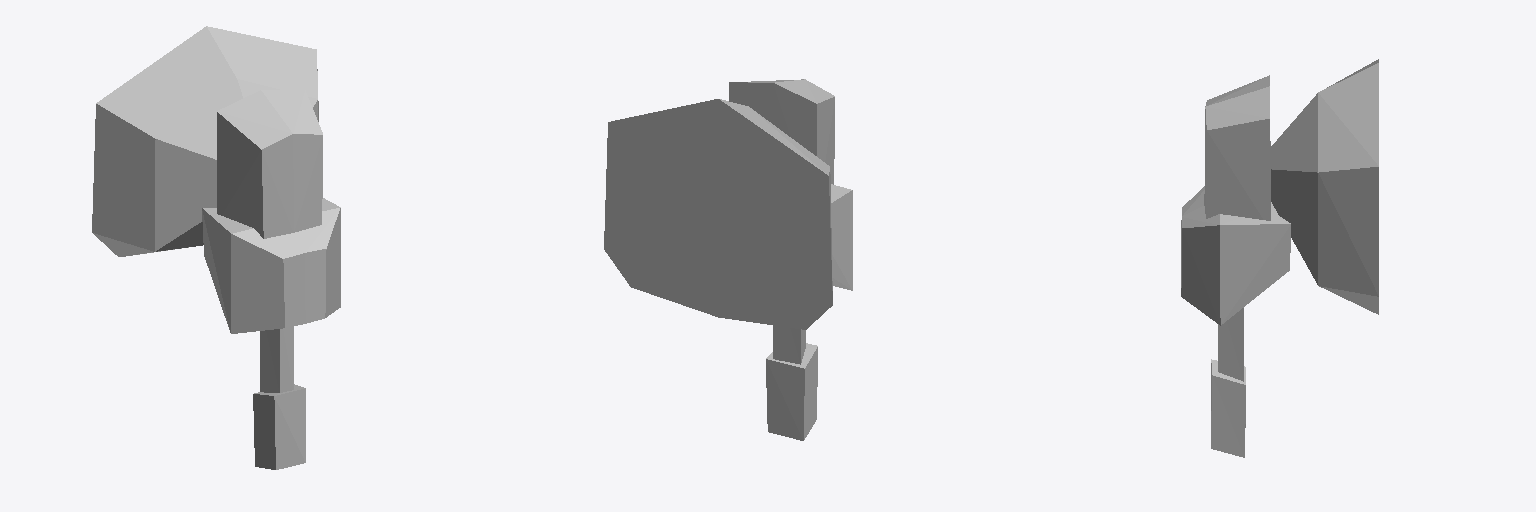
The model's file is turret-16.obj.
3 views of the same model, side by side, from view 1: azimuth 30°, elevation 25°; view 2: azimuth 150°, elevation 25°; view 3: azimuth 270°, elevation 25° (orthographic).
Visible parts, largest first — view 1: turret_16; view 2: turret_16; view 3: turret_16.
Part boxes in pixels (left/top/right/bottom): turret_16: left=92, top=26, right=340, bottom=469; turret_16: left=604, top=79, right=852, bottom=440; turret_16: left=1181, top=59, right=1378, bottom=457.
Size of the model in its own units: 2.75 by 4.44 by 2.06.